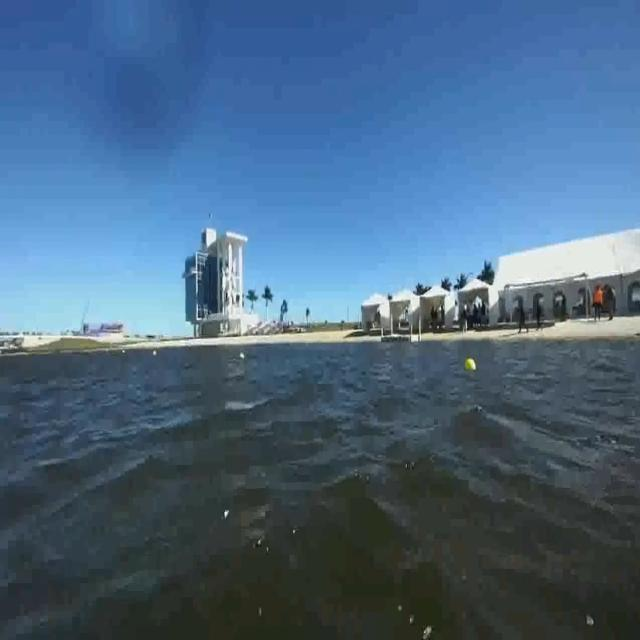yellow-buoy: (468, 357, 478, 372)
